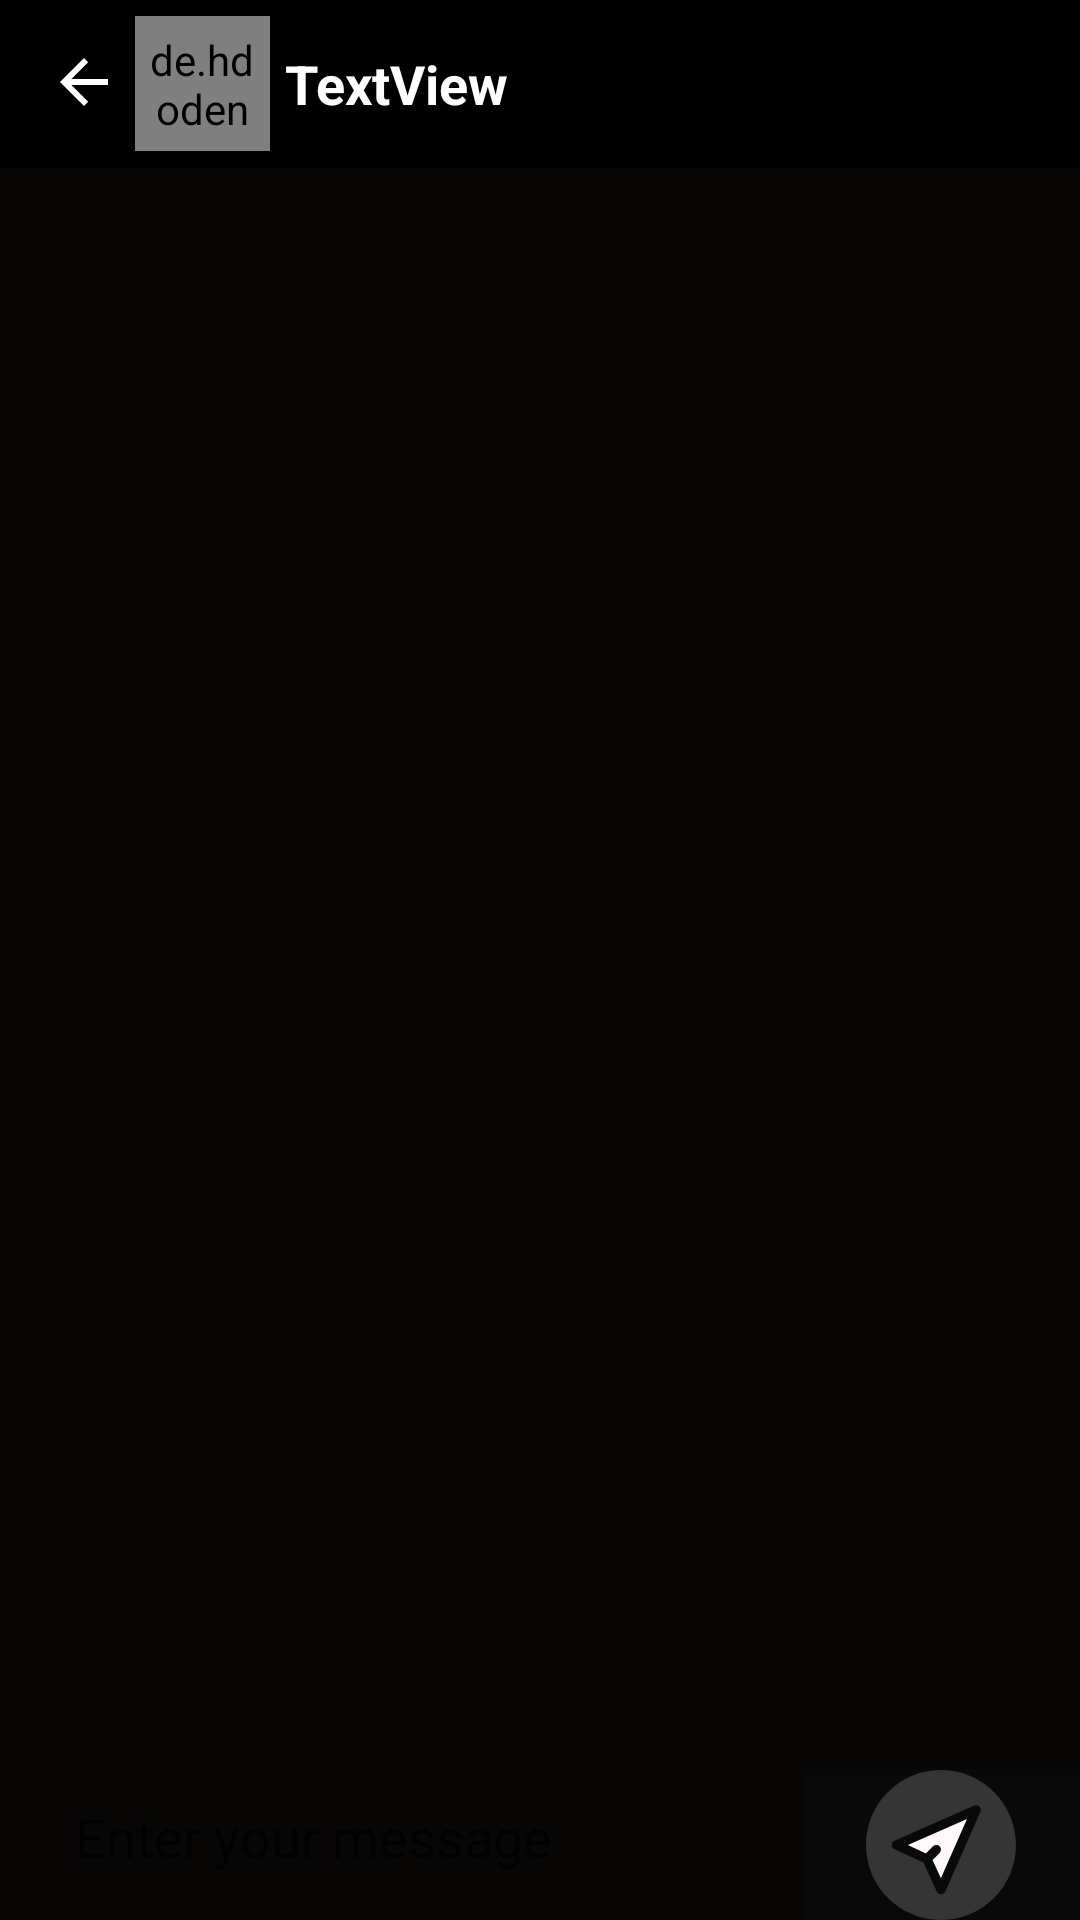

Icon click points for this 1080 x 1920 phone screenshot, format (x,y):
send: (941,1845)
